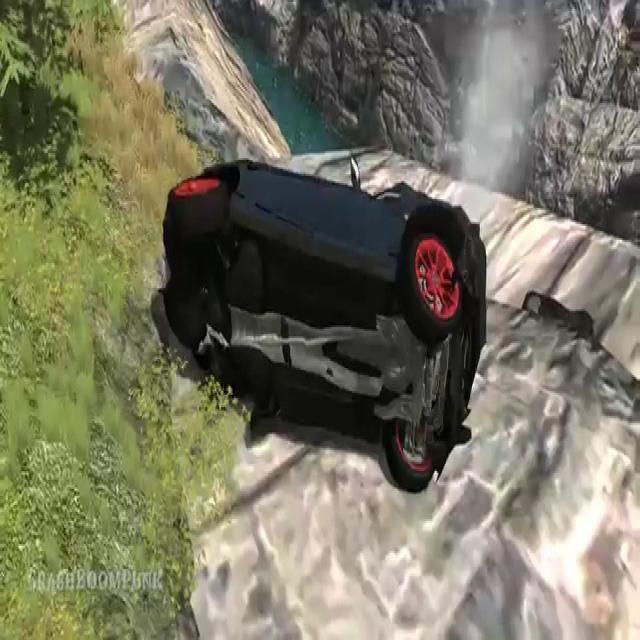severe: (162, 142, 493, 497)
